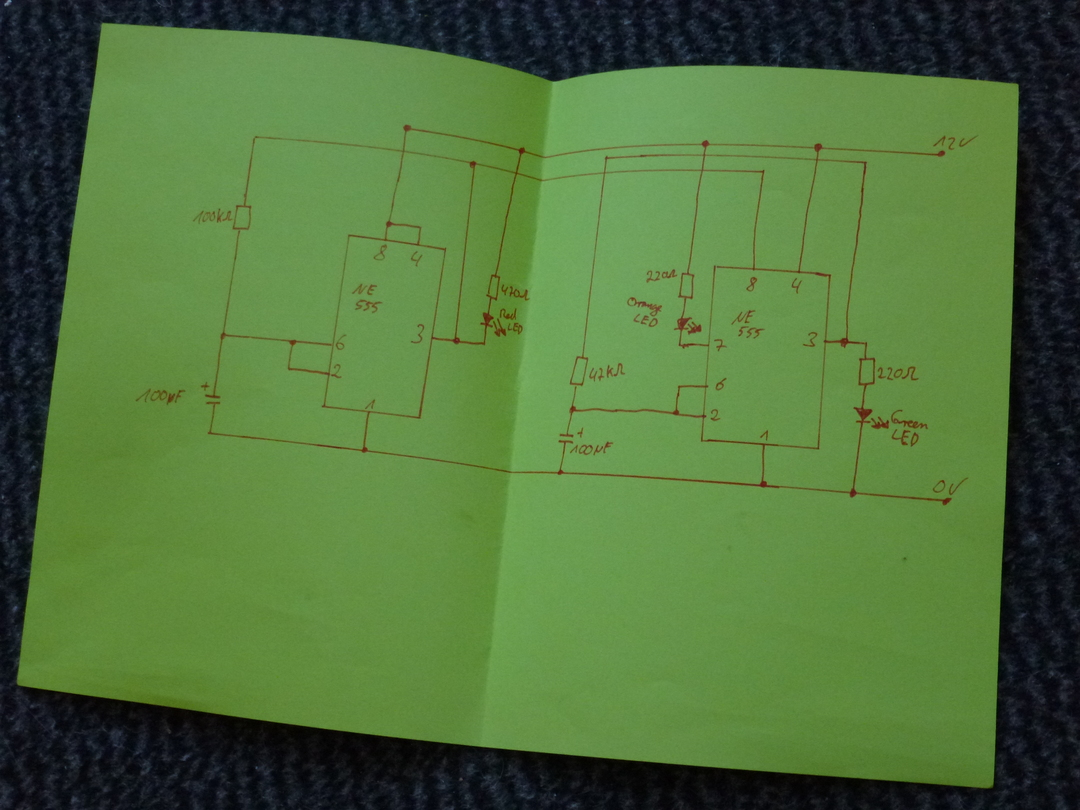capacitor.polarized: (200, 381, 222, 406), (557, 426, 586, 444)
crossover: (697, 165, 708, 175), (812, 155, 823, 165), (700, 150, 711, 160), (399, 146, 408, 157), (512, 168, 521, 178), (600, 168, 610, 177)
diode.light_emitting: (853, 406, 890, 430), (480, 312, 508, 338), (673, 317, 703, 335)
integrated_cricuit.ne555: (700, 265, 832, 451), (321, 233, 448, 419)
junction: (838, 335, 851, 349), (358, 444, 371, 456), (811, 141, 824, 153), (400, 123, 414, 134), (847, 487, 859, 499), (757, 479, 769, 491), (566, 404, 579, 415), (670, 407, 683, 418), (467, 159, 480, 170), (286, 336, 298, 347), (451, 335, 462, 347), (217, 331, 230, 341), (700, 139, 712, 149), (283, 364, 294, 374), (516, 145, 526, 156), (860, 157, 870, 168), (204, 427, 214, 437), (251, 133, 261, 143), (758, 167, 768, 177), (676, 340, 686, 350), (555, 468, 566, 477), (861, 339, 871, 348), (384, 219, 393, 228), (415, 224, 424, 232), (602, 153, 611, 161), (480, 339, 488, 347), (676, 383, 683, 391)
resistor: (568, 355, 588, 387), (857, 356, 877, 388), (232, 203, 253, 233), (677, 272, 696, 300), (485, 273, 501, 302)
terminal: (940, 496, 954, 507), (933, 149, 947, 159)
text: (890, 409, 929, 447), (626, 296, 663, 328), (730, 309, 765, 339), (351, 283, 383, 315), (135, 387, 186, 406), (932, 134, 979, 151), (588, 362, 625, 382), (877, 365, 920, 382), (499, 307, 524, 336), (932, 477, 968, 496), (192, 208, 233, 224), (500, 283, 530, 302), (570, 442, 613, 455), (645, 268, 678, 283), (410, 323, 425, 344), (802, 331, 818, 348), (373, 243, 388, 261), (330, 363, 344, 380), (745, 275, 758, 293), (410, 250, 423, 268), (790, 277, 803, 294), (335, 334, 348, 351), (713, 337, 727, 352), (714, 377, 727, 392), (364, 398, 377, 411), (709, 408, 721, 422), (759, 430, 770, 443)
